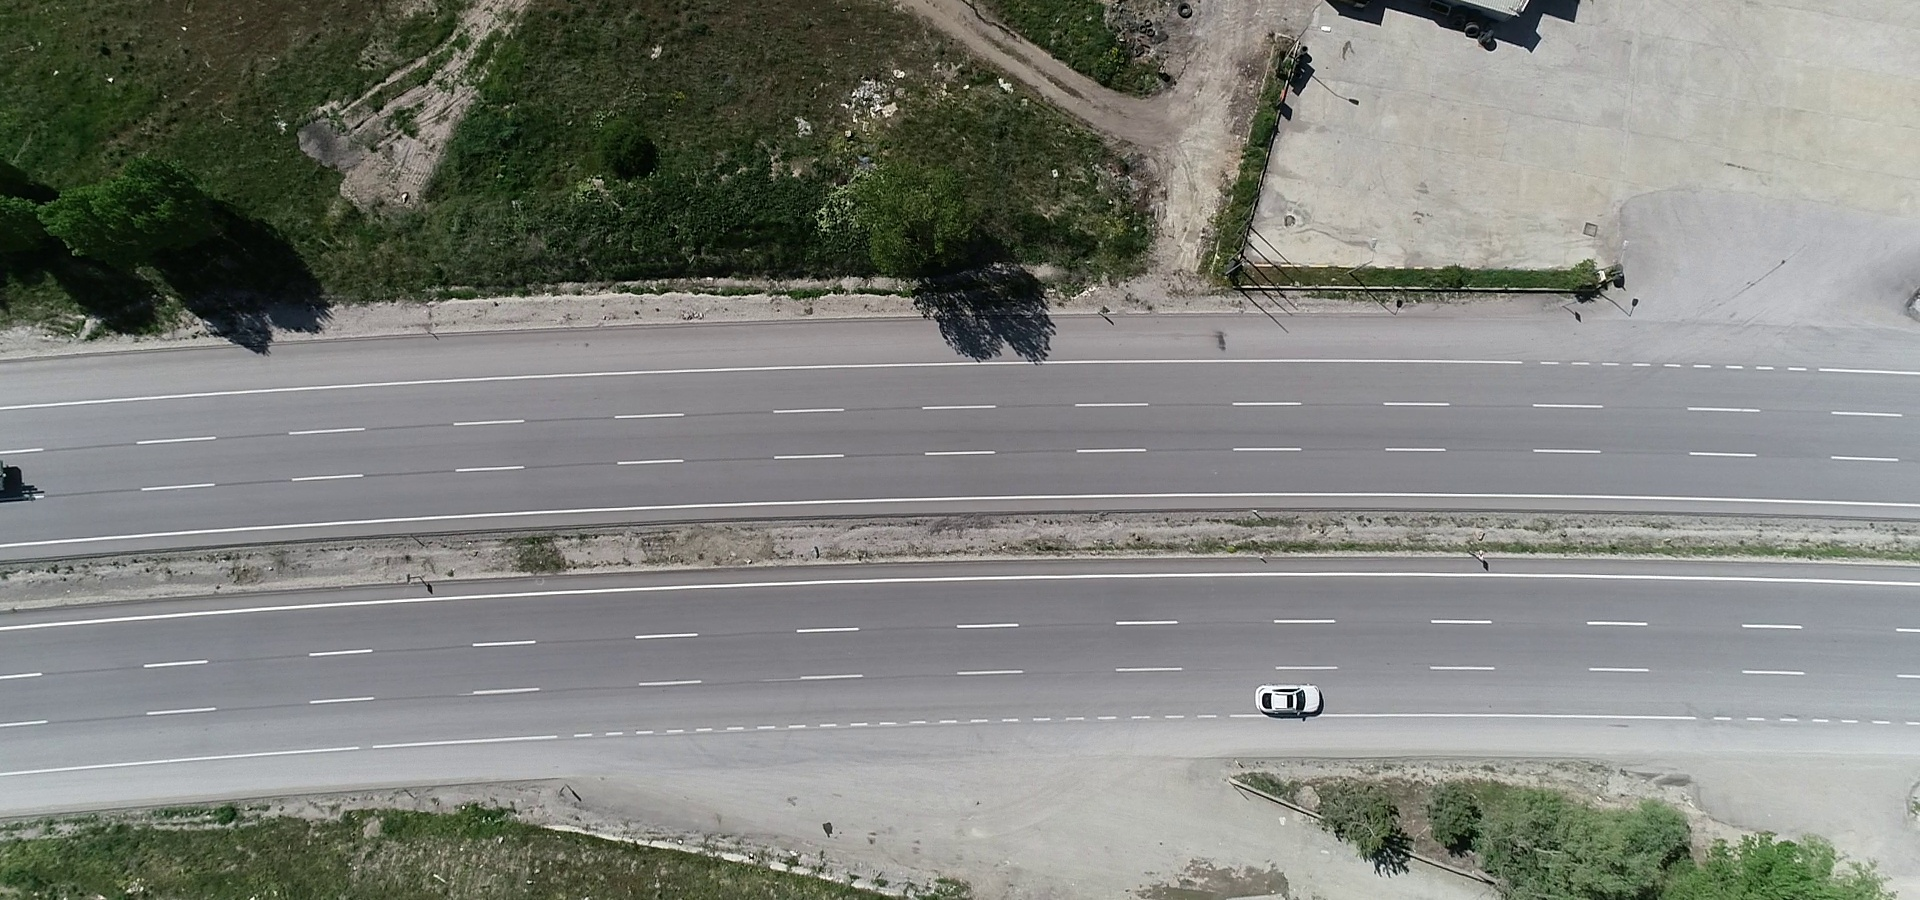araba: (1250, 681, 1330, 724)
